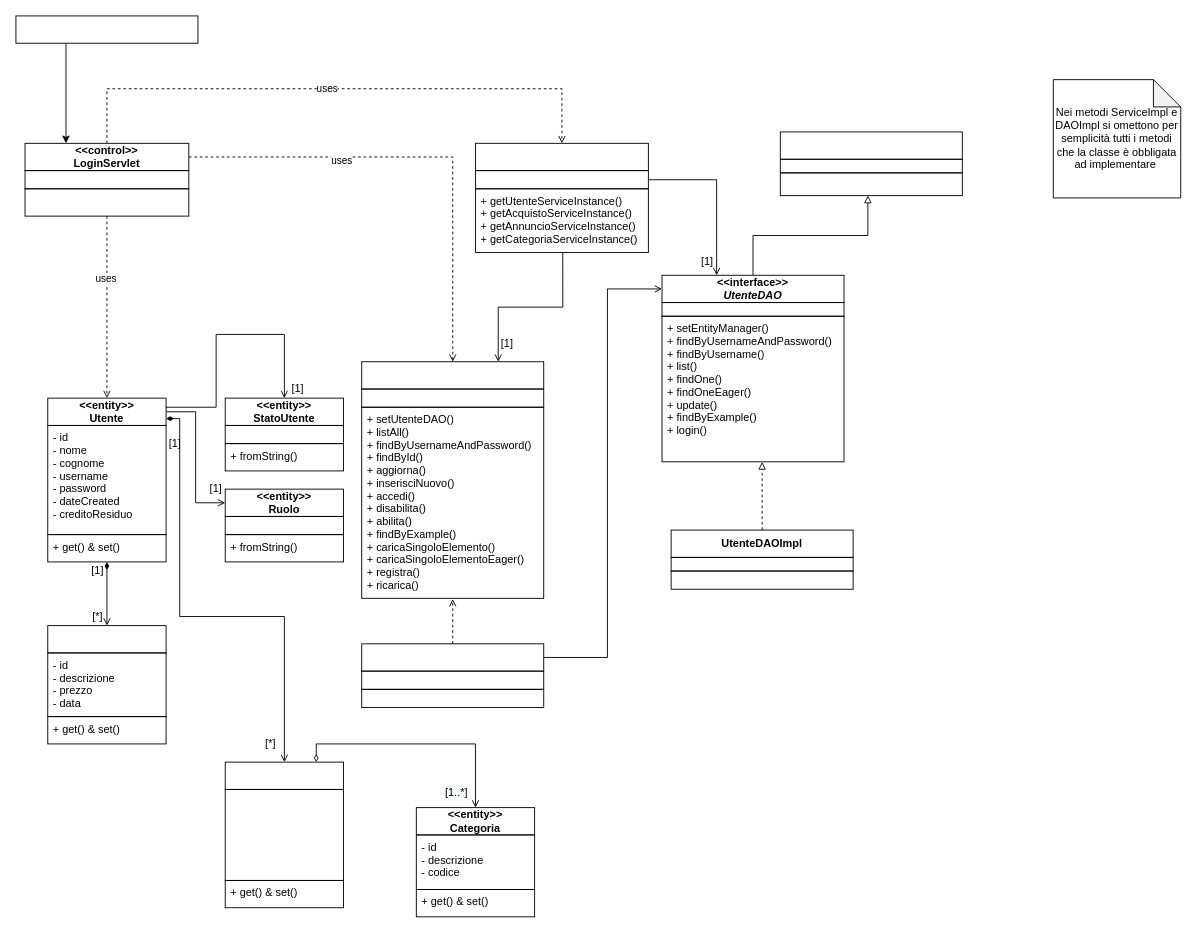
Some shapes in this 1197 by 935 pixel diagram are drawn without their labels. The centre of each missing label's shape, as x and y in pixels:
+ doPost(): the point at 106,202
+ insert(): the point at 870,184
- id - titolo - testoAnnuncio - prezzo - aperto - data: the point at 284,834
<<entity>> Acquisto: the point at 106,639
<<entity>> Annuncio: the point at 284,775
<<interface>> IBaseDAO: the point at 870,145
<<interface>> UtenteService: the point at 452,375
<<view>> login.jsp: the point at 106,29
MyServiceFactory: the point at 561,156
UtenteServiceImpl: the point at 452,657
